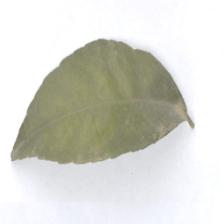healthy: (10, 38, 197, 168)
